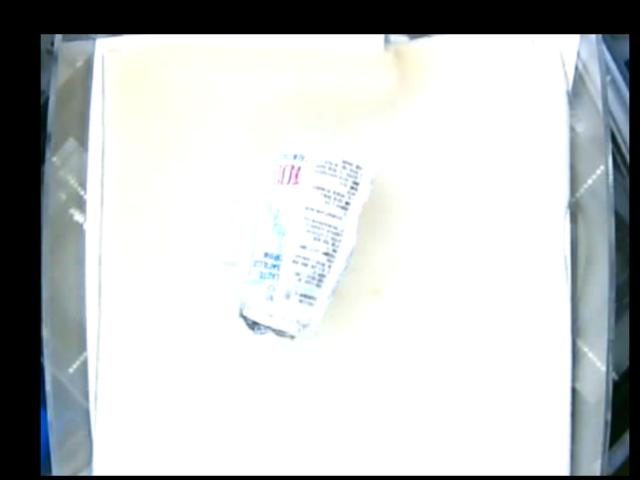Bottle: (238, 132, 373, 341)
